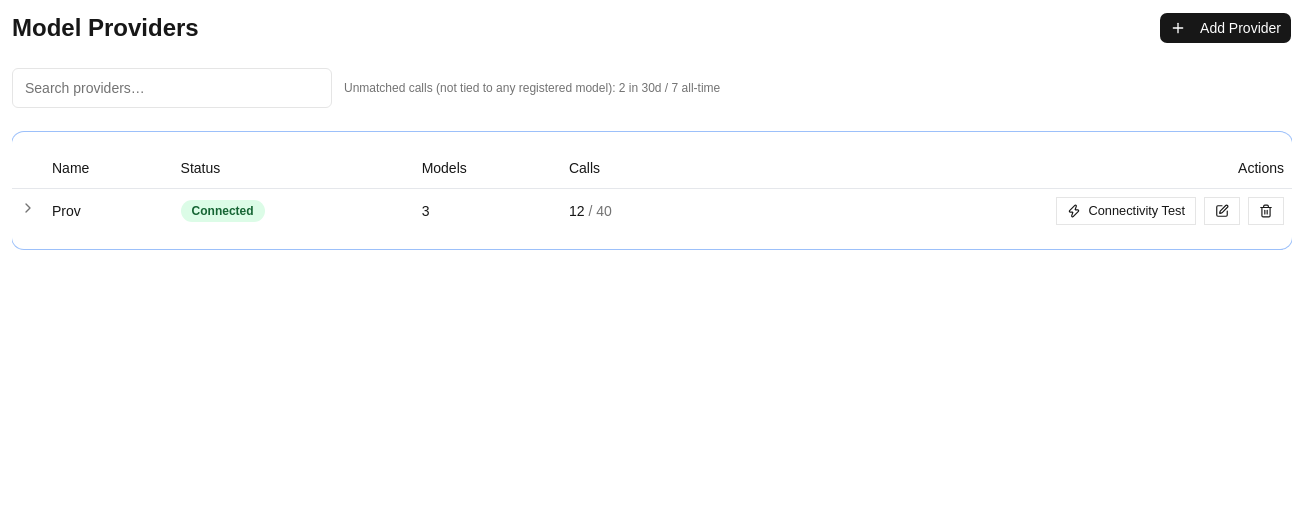
Test: ModelsPage publish lifecycle › gates the publish button on test evidence
expect the text "Prov" is shown: met, box [44,188,173,232]
Click the button named "Toggle models for Prov".
click(28, 208)  # box [20,200,36,216]
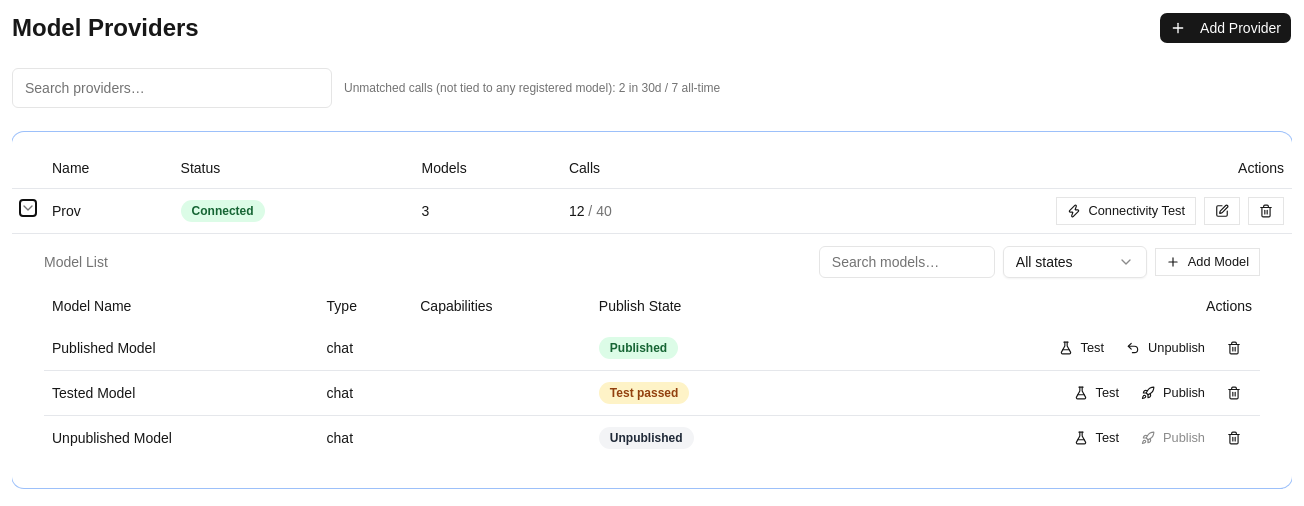
expect the text "Published Model" is shown: met, box [44,326,319,370]
expect the number of buttons "Publish" is 2: met, box [1130,378,1216,406]; [1130,424,1216,452]
expect the button "Publish" in the row of "Unpublished Model" is shown: met, box [1130,424,1216,452]
